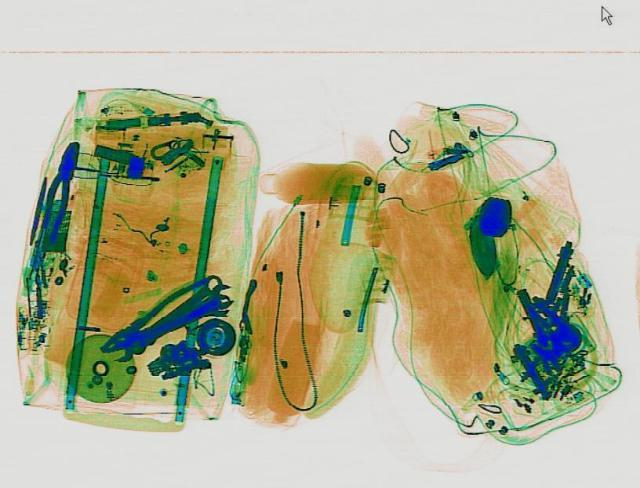Pliers: (88, 277, 222, 361), (34, 137, 86, 239)
Wrench: (100, 270, 230, 361)
